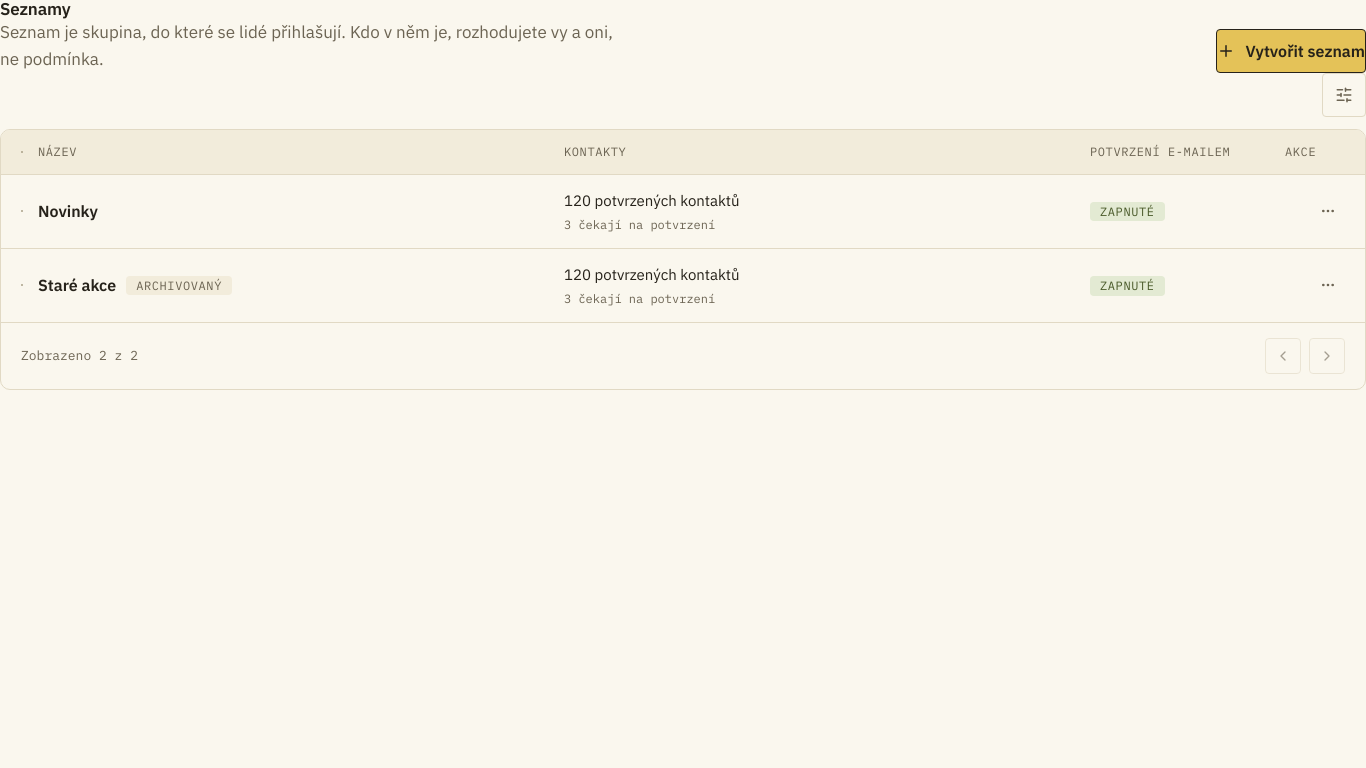
Scenario: hromadná archivace seznamů › nezdar výběr nezruší a pojmenuje se počtem
Click the 1st checkbox named "Název" at {"x": 22, "y": 211}, box [21,210,23,212]
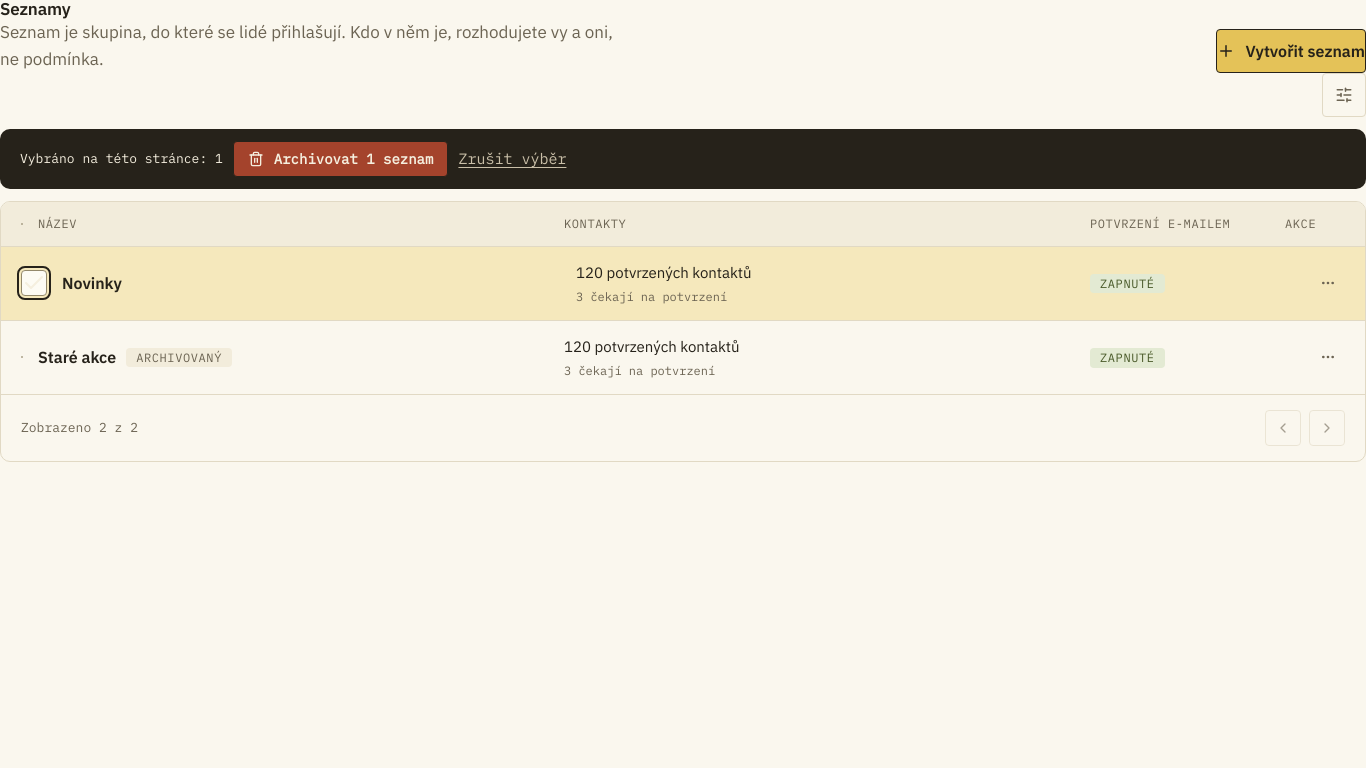
Click the button with test id "lists-bulk-delete" at {"x": 341, "y": 159}, box [233,141,448,177]
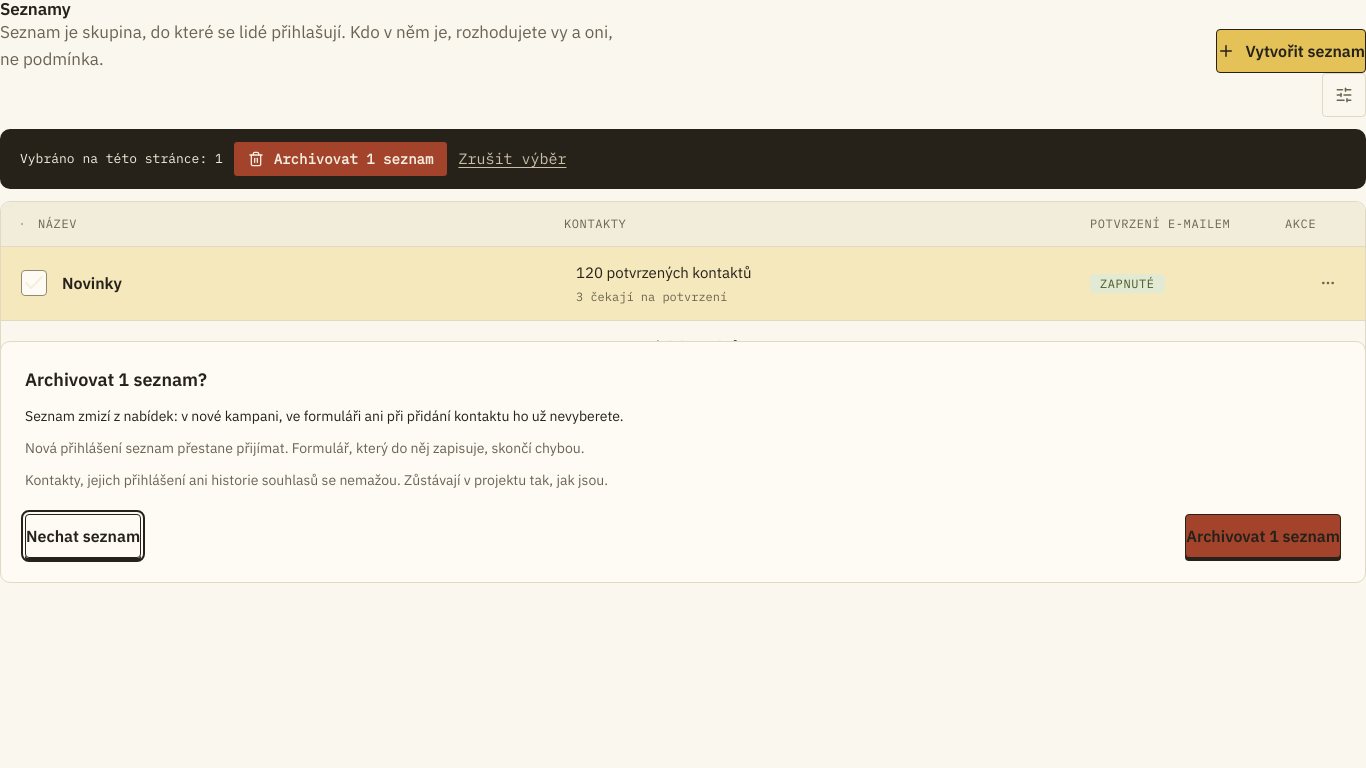
Click the button with test id "lists-bulk-submit" at {"x": 1263, "y": 536}, box [1185,514,1341,558]
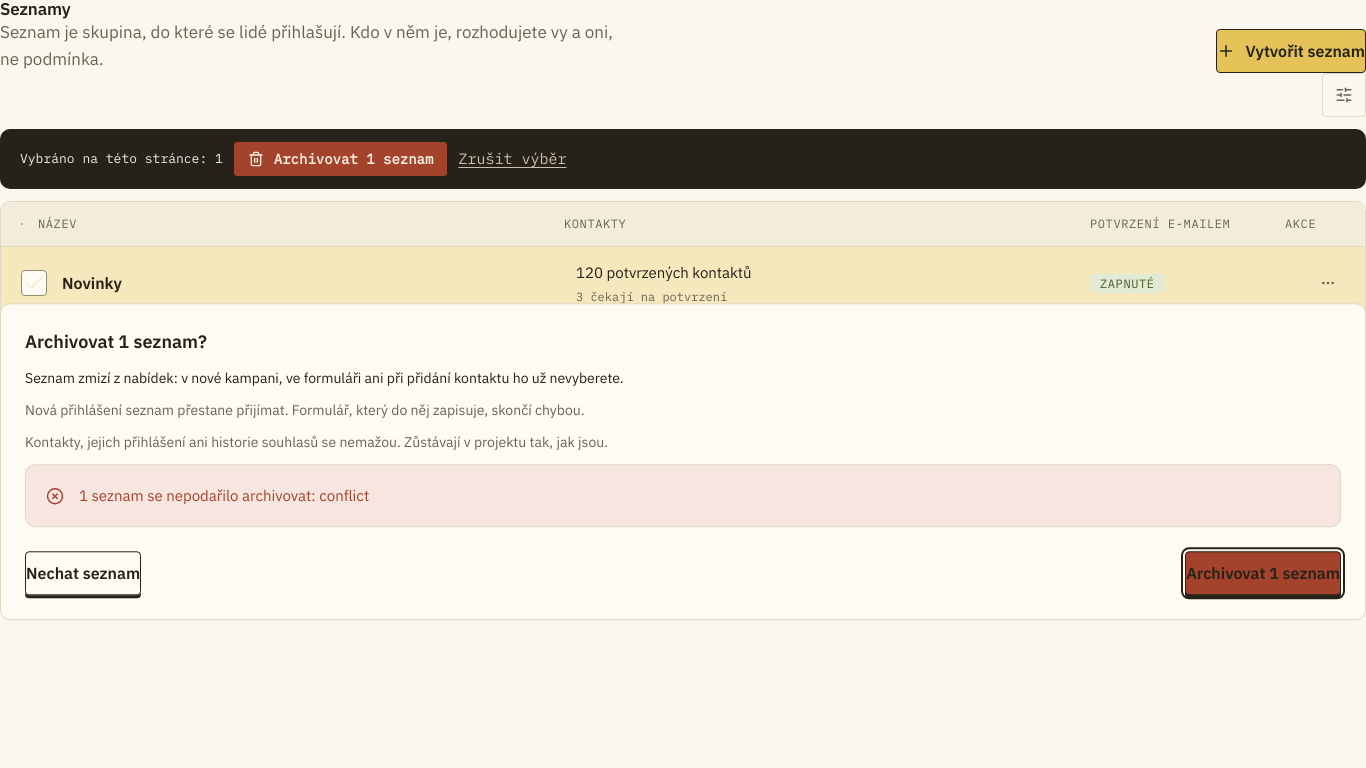
expect the button with test id "lists-bulk-delete" is shown: met, box [233,141,448,177]
expect the message with test id "lists-bulk-error" shows "conflict": met, box [79,486,369,505]
